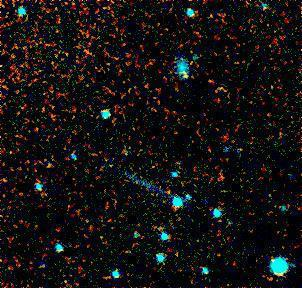star: (172, 62, 202, 92)
